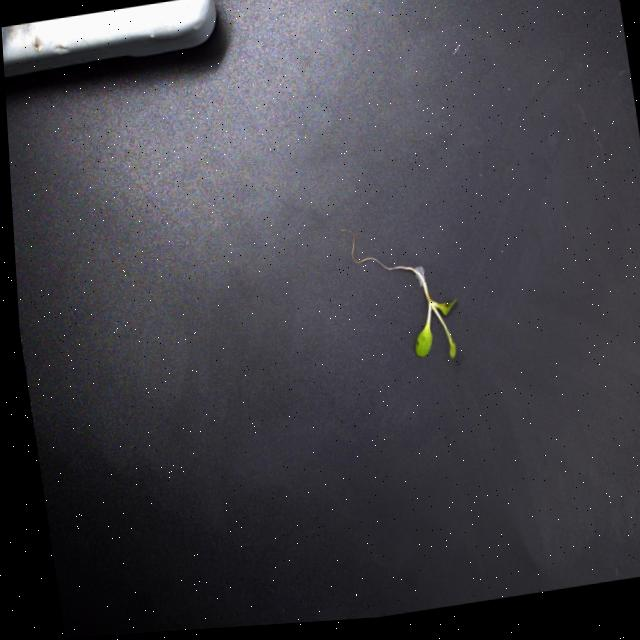leaf: (416, 326, 435, 359)
root: (341, 227, 432, 303)
steb: (426, 299, 451, 336)
